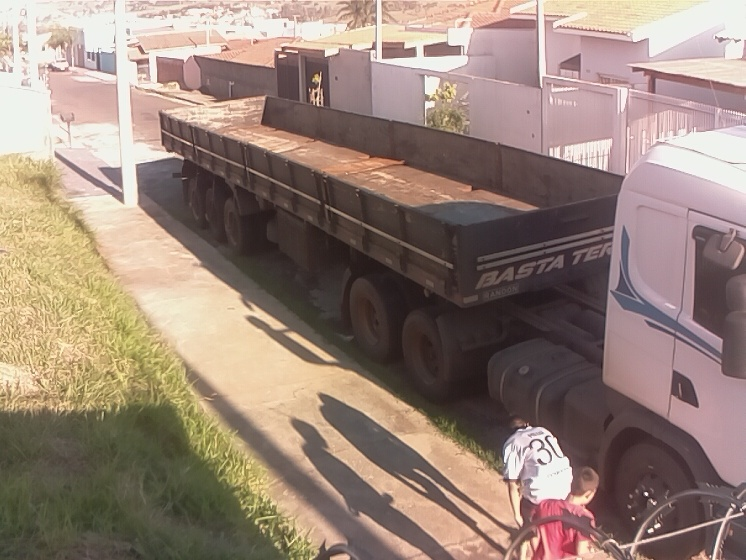person: (497, 410, 575, 560), (515, 462, 613, 560)
